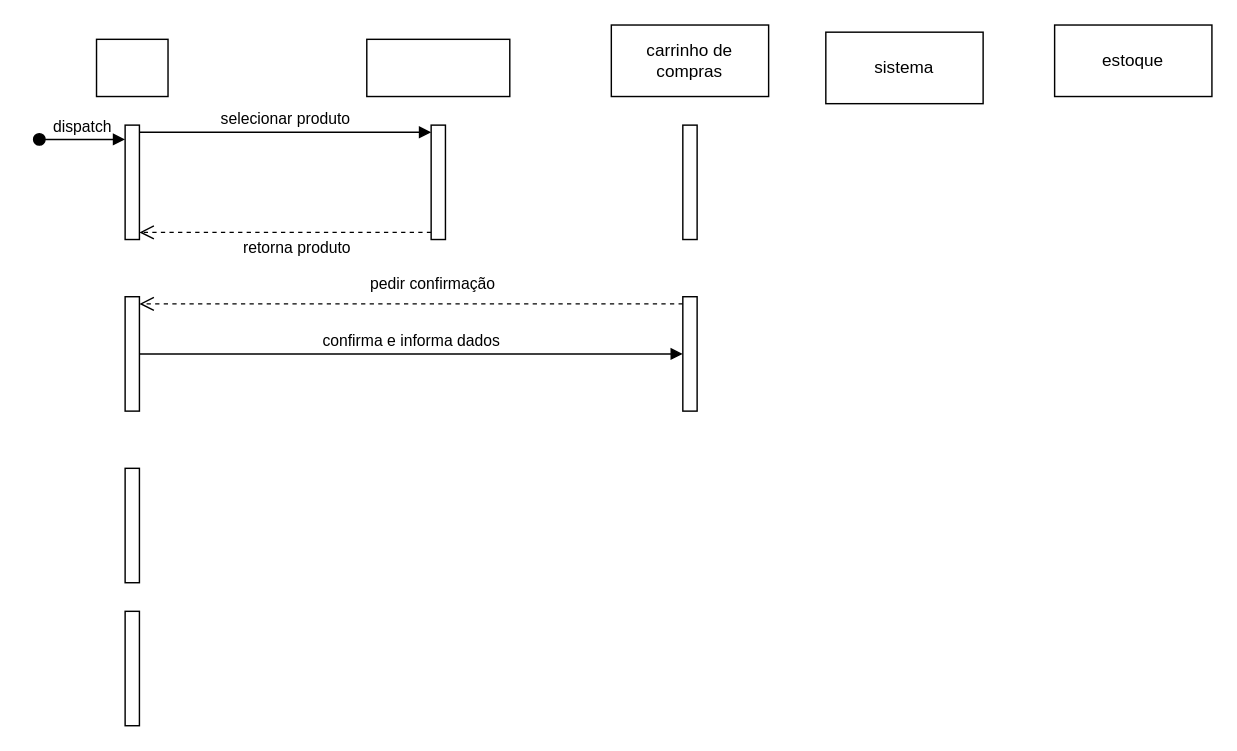
This 1237x751 diagram has some shape labels left out. Each missing label, with the centre of its shape:
"cliente" belongs at pixel 131 67.
"site" belongs at pixel 437 67.
